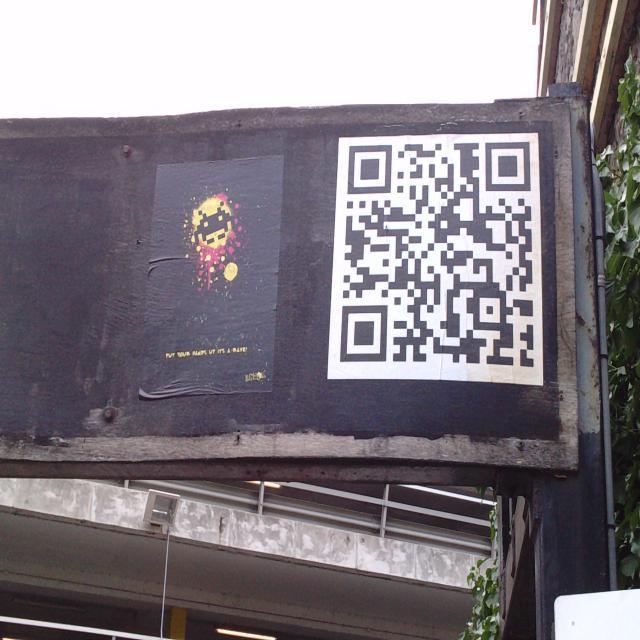qrcode: (341, 143, 535, 368)
